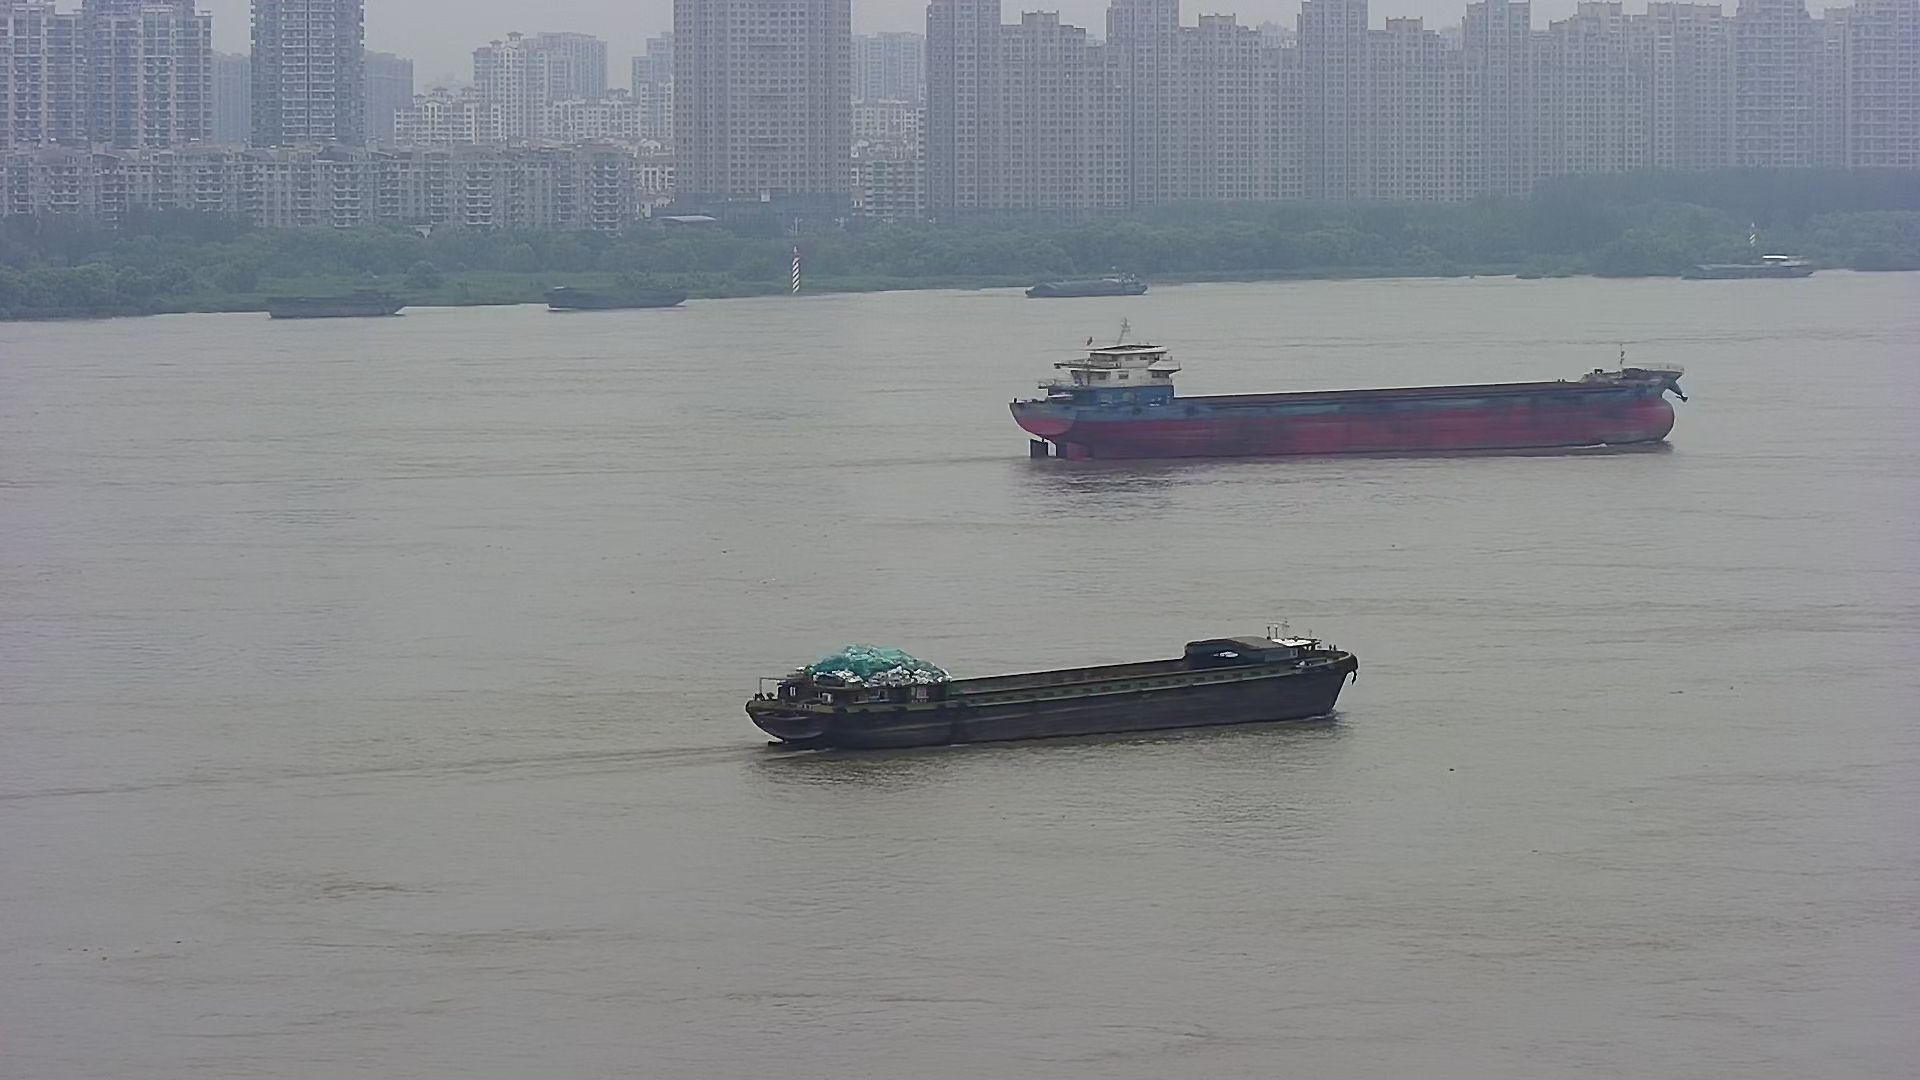ship: (719, 585, 1391, 775), (1005, 320, 1700, 483), (524, 258, 702, 328), (256, 273, 426, 332)
